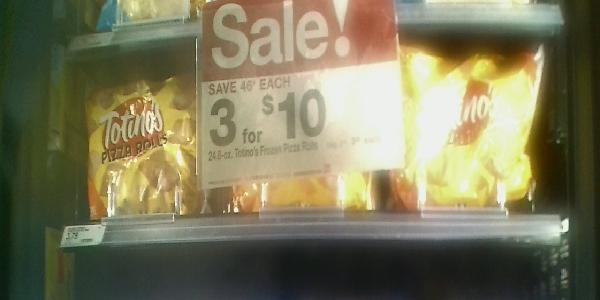icecream: (203, 36, 380, 211), (382, 36, 537, 210), (79, 65, 203, 220)
